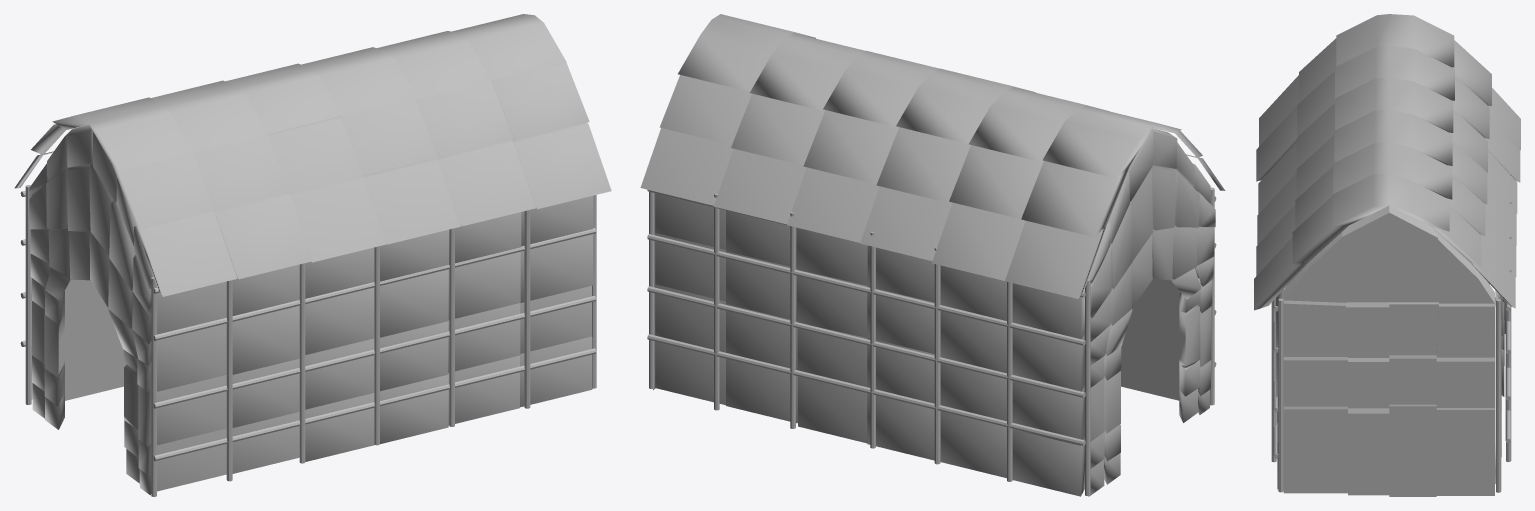
3 renders of one model, left to right at view 1: azimuth 30°, elevation 25°; view 2: azimuth 150°, elevation 25°; view 3: azimuth 270°, elevation 25°, orthographic. The views are drawn at different scales.
Parts seen in each view (by area): view 1: pPlane6, pPlane9, pPlane11, pCylinder16, pCylinder17, pCylinder15, pCylinder7, pCylinder5, pCylinder4, pCylinder3, pCylinder6, pCylinder1 (+2 smaller); view 2: pPlane6, pPlane9, pPlane11, pCylinder22, pCylinder20, pCylinder21, pCylinder9, pCylinder7, pCylinder11, pCylinder12, pCylinder10, pCylinder8 (+2 smaller); view 3: pPlane3, pPlane6, pCylinder14, pCylinder13, pCylinder3, pCylinder12.
Boxes of the visible parts, <box> form: pPlane6: <box>14,14,611,491</box>; pPlane9: <box>29,124,153,495</box>; pPlane11: <box>65,279,126,400</box>; pCylinder16: <box>153,295,596,408</box>; pCylinder17: <box>153,348,596,461</box>; pCylinder15: <box>153,228,596,340</box>; pCylinder7: <box>25,185,31,404</box>; pCylinder5: <box>226,280,232,481</box>; pCylinder4: <box>299,263,305,463</box>; pCylinder3: <box>524,210,530,408</box>; pCylinder6: <box>151,276,156,496</box>; pCylinder1: <box>374,246,379,445</box>; pPlane6: <box>640,14,1225,496</box>; pPlane9: <box>1088,128,1215,496</box>; pPlane11: <box>1121,276,1179,400</box>; pCylinder22: <box>647,334,1085,445</box>; pCylinder20: <box>647,234,1085,345</box>; pCylinder21: <box>647,286,1085,397</box>; pCylinder9: <box>934,247,940,464</box>; pCylinder7: <box>1085,278,1090,496</box>; pCylinder11: <box>790,212,795,428</box>; pCylinder12: <box>714,193,719,410</box>; pCylinder10: <box>870,231,875,448</box>; pCylinder8: <box>1007,282,1012,481</box>; pPlane3: <box>1283,205,1494,496</box>; pPlane6: <box>1254,14,1520,489</box>; pCylinder14: <box>1278,298,1283,492</box>; pCylinder13: <box>1496,299,1501,492</box>; pCylinder3: <box>1271,301,1276,462</box>; pCylinder12: <box>1506,268,1511,461</box>.
Size of the model in its own units: 8.65 by 6.11 by 5.05.
5 materials, 5 textured.
